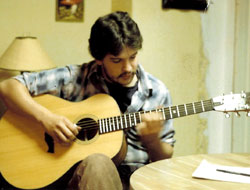guitar: (1, 89, 250, 189)
